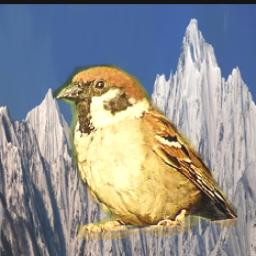Sparrow: (53, 63, 237, 240)
